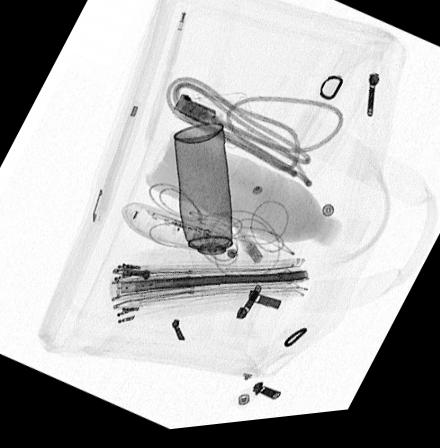Sprayer: (172, 124, 237, 285)
